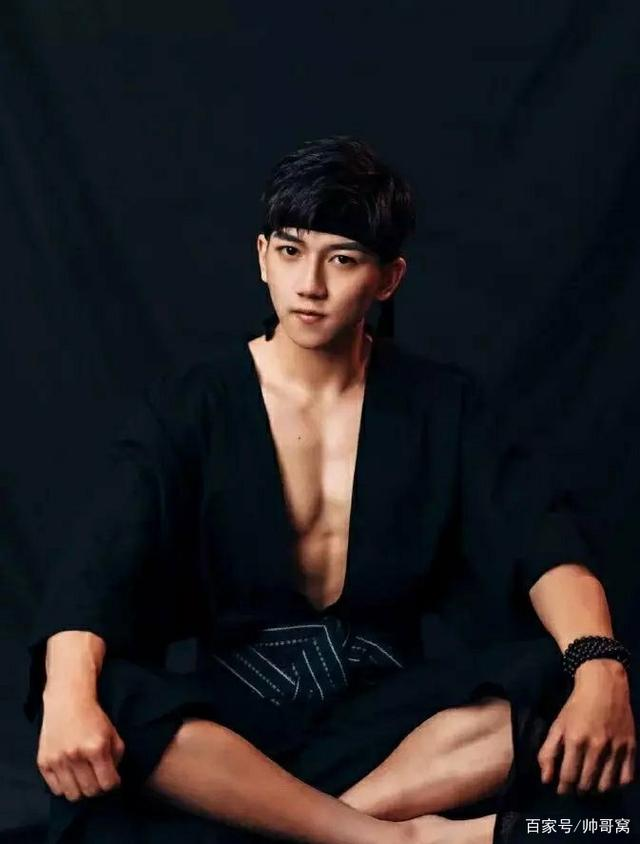person: (97, 151, 505, 693)
